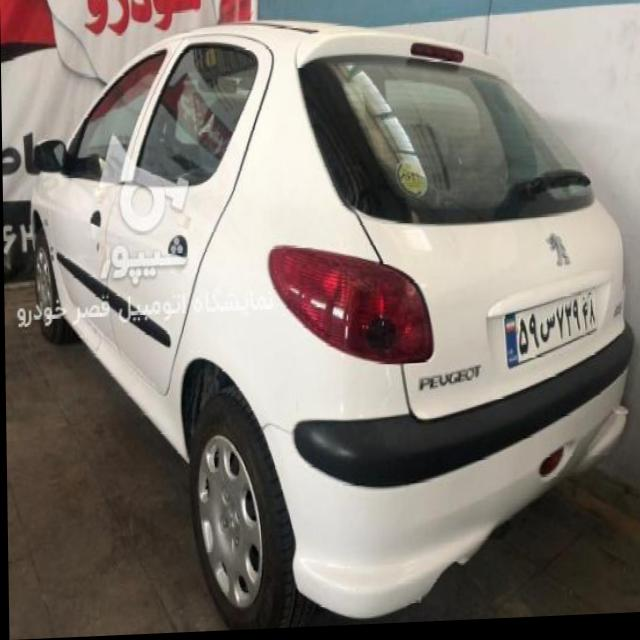licence: (499, 295, 598, 370)
